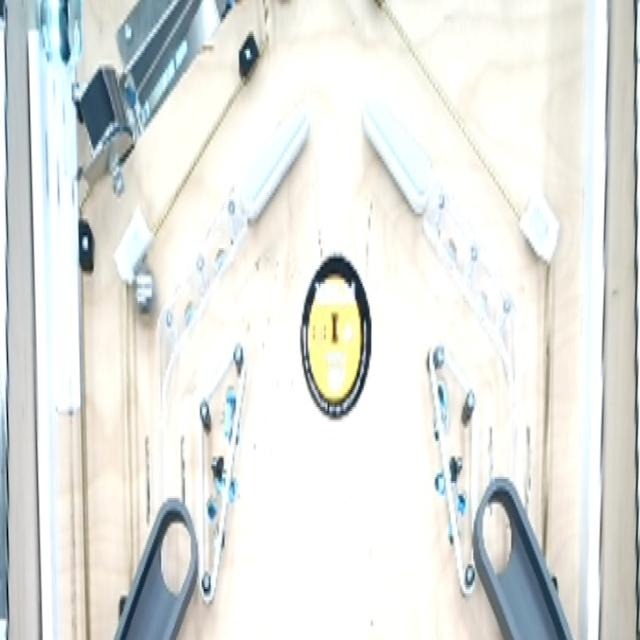ball: (130, 262, 160, 321)
flipper-left: (359, 98, 433, 233)
flipper-right: (240, 99, 312, 238)
